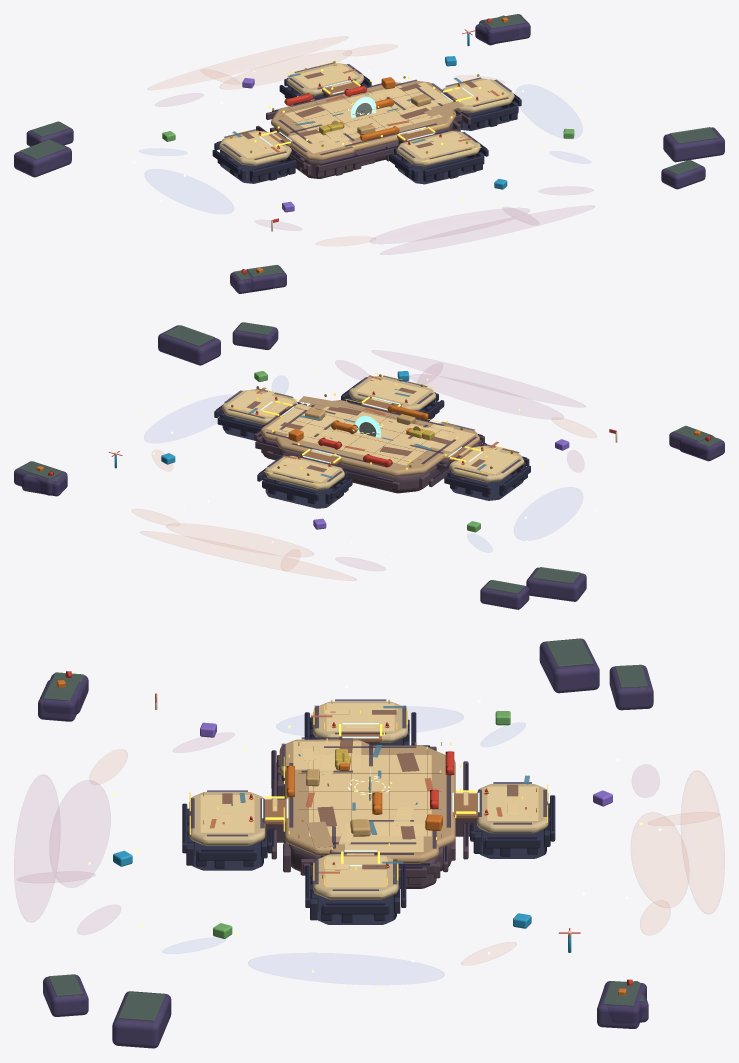
File: open_ringout_visuals.glb
The picture shows the model from 3 angles, top to bottom: view 1: azimuth 30°, elevation 25°; view 2: azimuth 150°, elevation 25°; view 3: azimuth 270°, elevation 25°; orthographic projection. The views are drawn at different scales.
Visible parts, largest first — view 1: A1MainDeckHeroCrown, A1DepthCloudRibbonSouth, A1DepthCloudRibbonNorth, main_deck_irregular_top_slab, CoolCloudBankLeft, CoolCloudBankRight, WarmCloudBankSouth, WarmCloudBankNorth, A1DepthIslandClusterSE_cliff, A1DepthIslandClusterNW_cliff, south_deck_irregular_top_slab, FarFloatingIslandRight_cliff (+17 smaller); view 2: A1MainDeckHeroCrown, A1DepthCloudRibbonSouth, main_deck_irregular_top_slab, A1DepthCloudRibbonNorth, WarmCloudBankSouth, CoolCloudBankLeft, WarmCloudBankNorth, CoolCloudBankRight, A1DepthIslandClusterSE_cliff, A1DepthIslandClusterNW_cliff, FarFloatingIslandLeft_cliff, main_deck_irregular_side_mass (+21 smaller); view 3: A1MainDeckHeroCrown, A1DepthCloudRibbonSouth, A1DepthCloudRibbonNorth, CoolCloudBankRight, WarmCloudBankSouth, WarmCloudBankNorth, main_deck_irregular_top_slab, A1DepthIslandClusterSE_cliff, A1DepthIslandClusterNW_cliff, FarFloatingIslandRight_cliff, A1SouthDeckHeroCrown, south_deck_irregular_top_slab (+25 smaller).
Boxes of the visible parts, x1,y1,x2,y2 form: A1MainDeckHeroCrown: (284,85,442,144); A1DepthCloudRibbonSouth: (380,206,594,254); A1DepthCloudRibbonNorth: (148,36,347,89); main_deck_irregular_top_slab: (271,82,456,151); CoolCloudBankLeft: (145,169,233,213); CoolCloudBankRight: (516,85,581,138); WarmCloudBankSouth: (370,208,529,243); WarmCloudBankNorth: (220,50,351,88); A1DepthIslandClusterSE_cliff: (663,127,724,162); A1DepthIslandClusterNW_cliff: (14,139,71,177); south_deck_irregular_top_slab: (396,131,480,166); FarFloatingIslandRight_cliff: (479,14,530,43); A1MainDeckHeroCrown: (286,406,449,465); A1DepthCloudRibbonSouth: (372,350,585,406); main_deck_irregular_top_slab: (275,400,443,476); A1DepthCloudRibbonNorth: (140,531,355,580); WarmCloudBankSouth: (410,374,563,418); CoolCloudBankLeft: (514,487,582,540); WarmCloudBankNorth: (166,524,313,556); CoolCloudBankRight: (144,395,232,442); A1DepthIslandClusterSE_cliff: (158,325,220,365); A1DepthIslandClusterNW_cliff: (526,567,586,601); FarFloatingIslandLeft_cliff: (480,580,529,609); main_deck_irregular_side_mass: (277,445,439,493); A1MainDeckHeroCrown: (308,755,431,836); A1DepthCloudRibbonSouth: (14,775,59,921); A1DepthCloudRibbonNorth: (681,771,724,913); CoolCloudBankRight: (248,953,443,984); WarmCloudBankSouth: (50,780,110,887); WarmCloudBankNorth: (631,812,688,907); main_deck_irregular_top_slab: (284,745,455,855); A1DepthIslandClusterSE_cliff: (112,991,171,1048); A1DepthIslandClusterNW_cliff: (539,638,599,693); FarFloatingIslandRight_cliff: (597,981,646,1028); A1SouthDeckHeroCrown: (200,795,254,832); south_deck_irregular_top_slab: (189,792,265,845).
Bounding box in the file's own units: 194 × 20.11 × 150.
